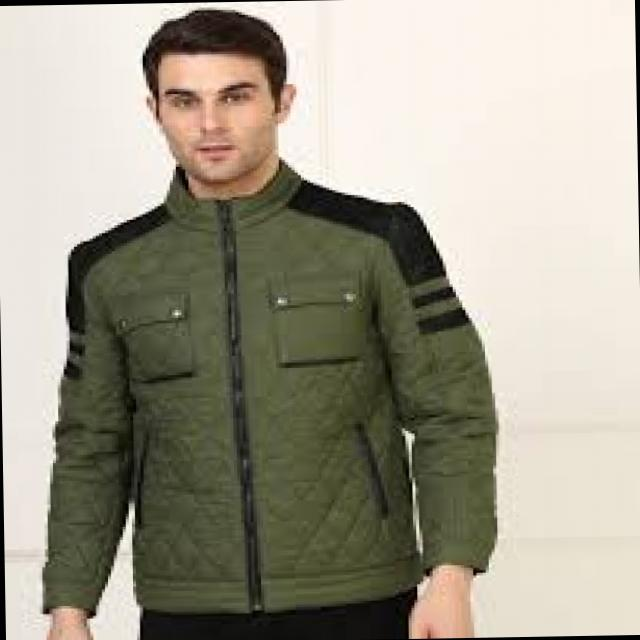Jacket: (64, 138, 466, 562)
